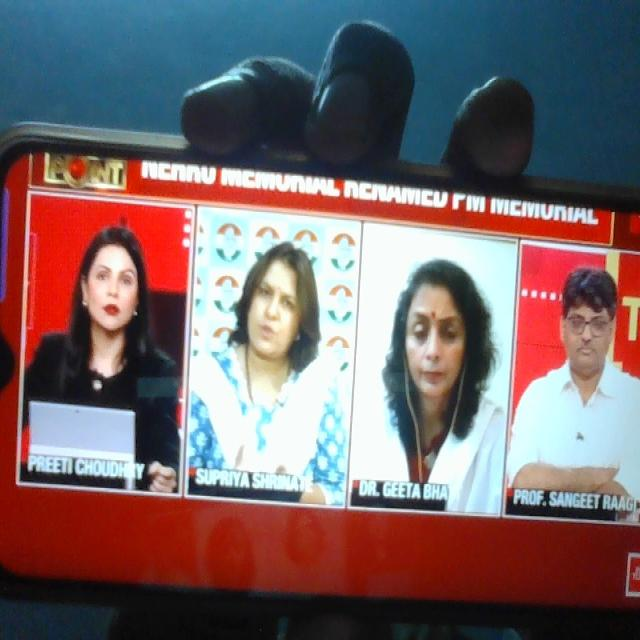fake: (378, 243, 487, 448)
